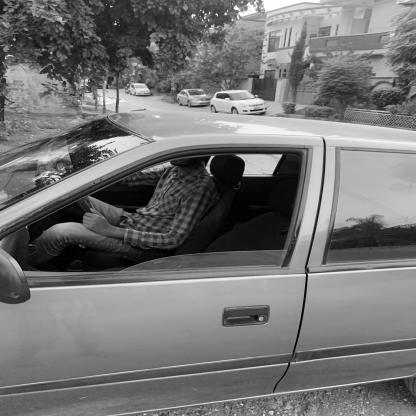no-seatbelt: (150, 161, 203, 220)
